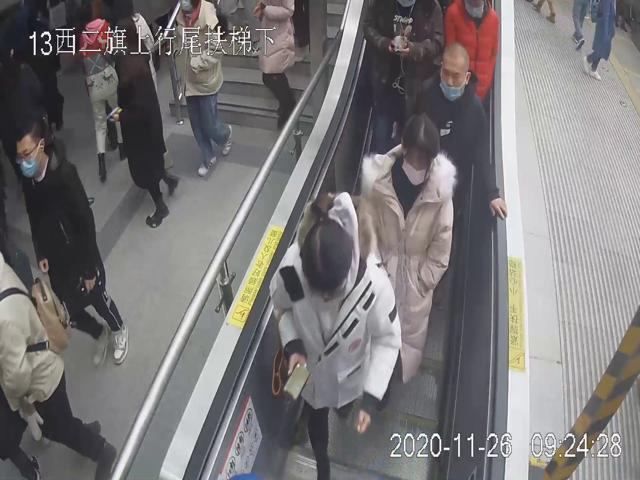person: (266, 204, 403, 480), (9, 110, 130, 367), (359, 112, 453, 384), (410, 41, 508, 226)
